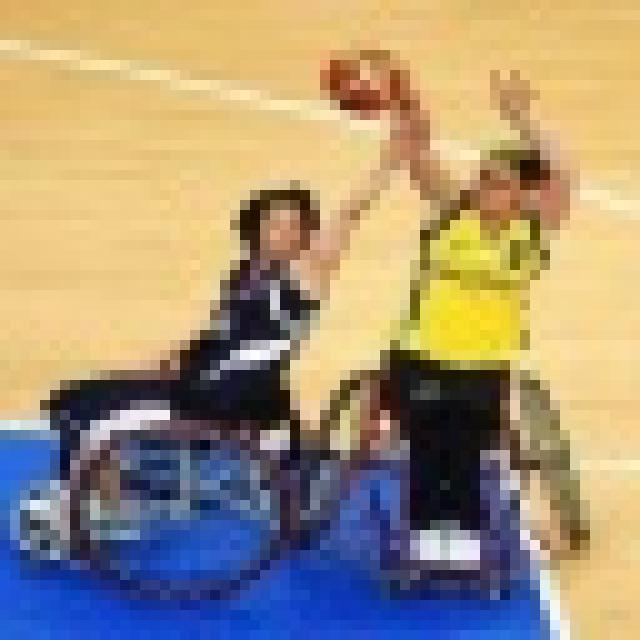wheelchairs: (10, 305, 304, 600), (295, 353, 585, 597)
